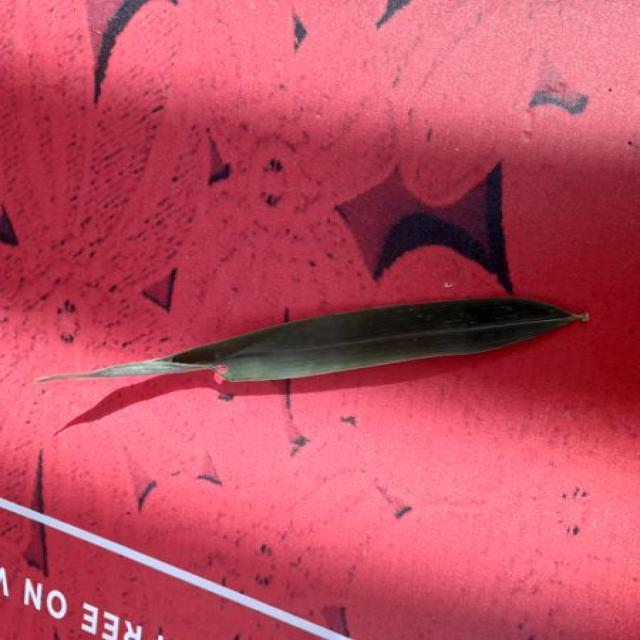Bamboo: (37, 298, 587, 381)
